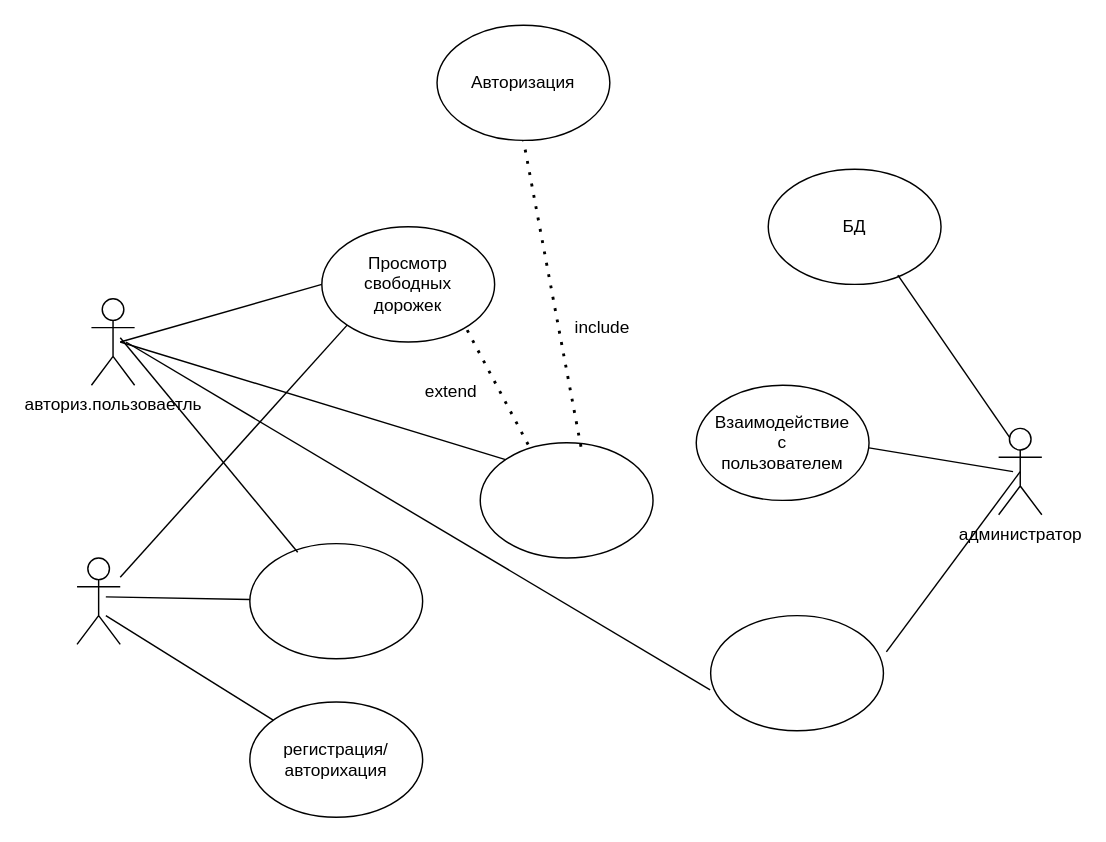
The diagram is 1106 pixels wide and 842 high, and some of its shapes have lost their labels. The centre of each missing label's shape, as x and y in pixels:
"Бронирование дорожек" belongs at (x=566, y=499).
"Гость" belongs at (x=98, y=600).
"Задать вопросы" belongs at (x=335, y=600).
"просмотрт забронированных дорожек" belongs at (x=796, y=672).
